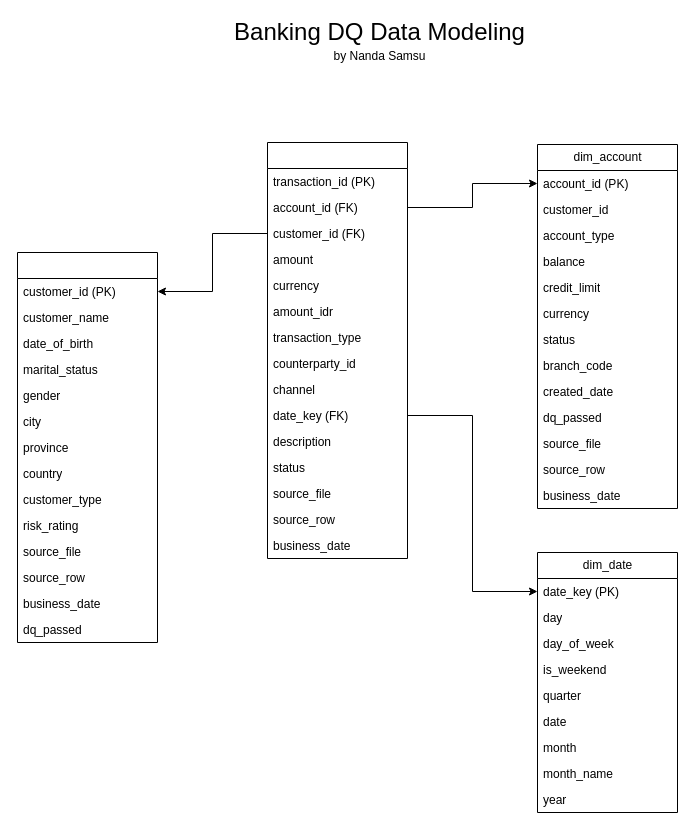
Image size: 695x832. Some labels were removed from this diagram. The shapes that lost their labels are listed below. From the top down, each one's box as (x1, y1, x2, y2) in pixels, then its label:
(266, 142, 408, 558): fact_transactions
(16, 252, 158, 642): dim_customer
